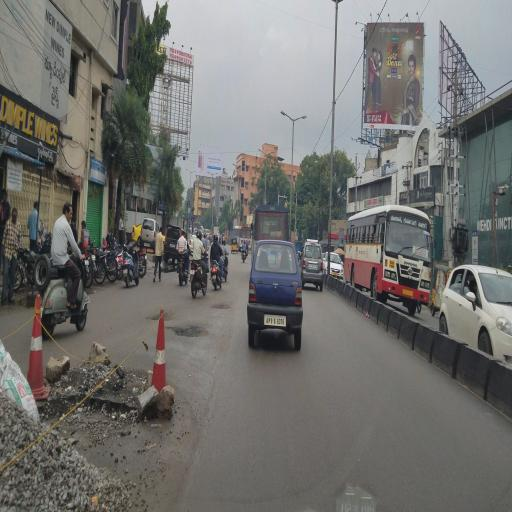street_light_0: (274, 101, 296, 128), (292, 106, 310, 128)
